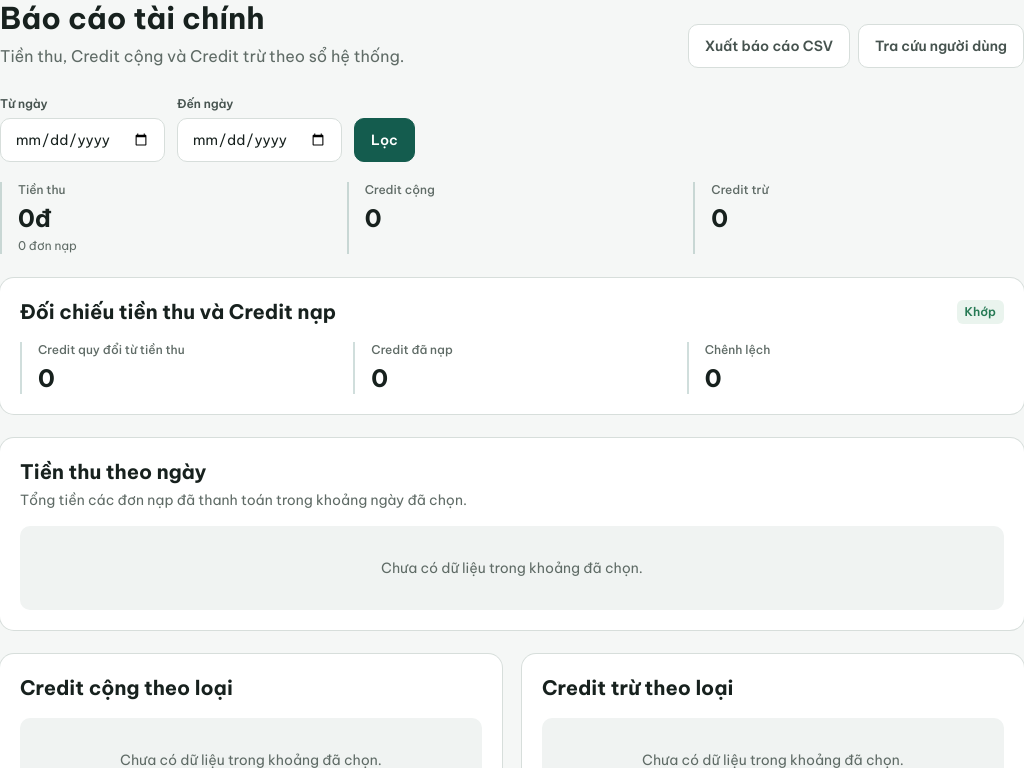
Test case: AdminFinanceReport CSV › hiển thị lỗi khi tải CSV thất bại
Expected: the heading "Đối chiếu tiền thu và Credit nạp" is shown, [20, 298, 336, 326]
What coordinates should you click on to do the following:
click the button "Xuất báo cáo CSV"
I would click on:
 (769, 46)
Its box is [688, 24, 850, 68].
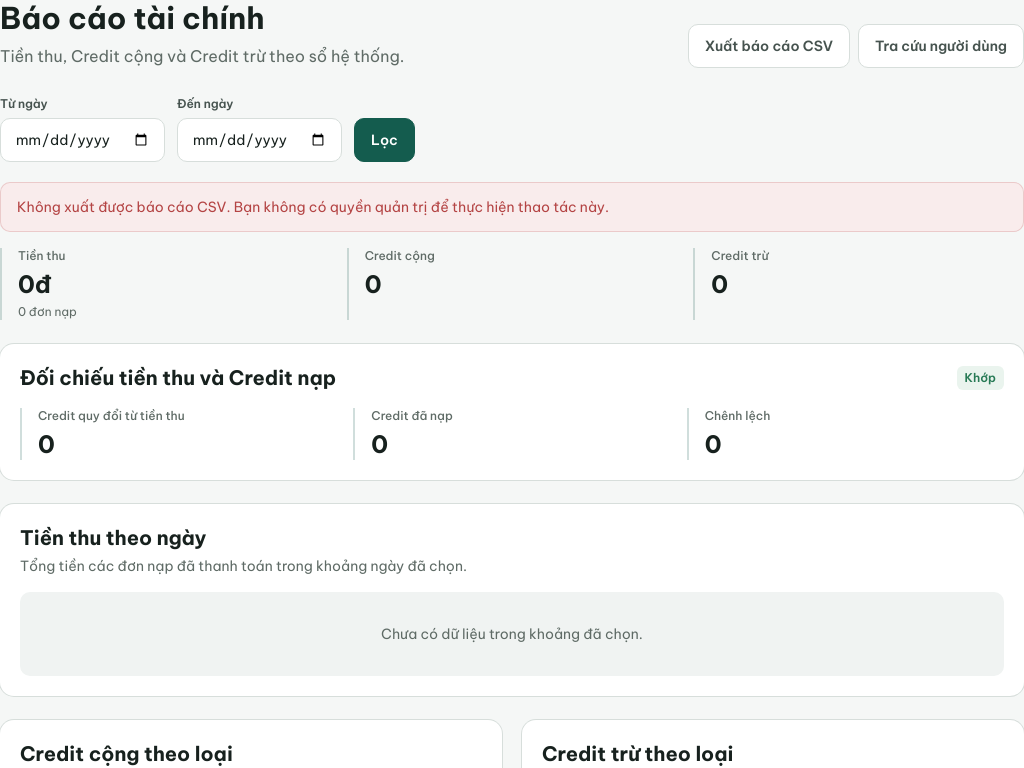
Result: the message shows "không có quyền quản trị" at [234, 198, 609, 216]
